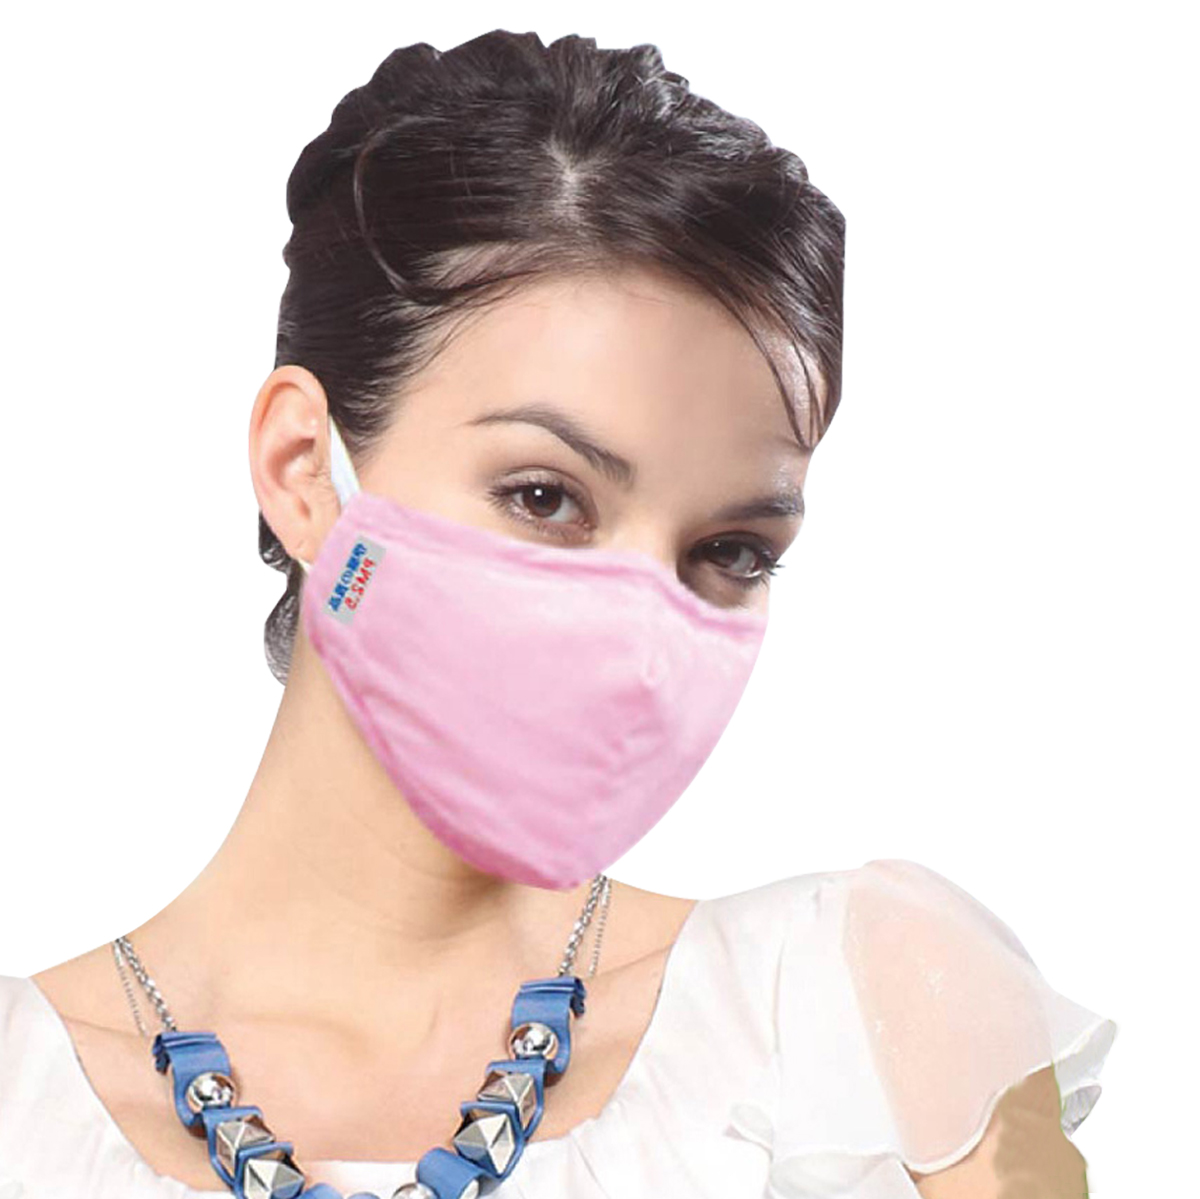face_mask: (349, 282, 813, 877)
